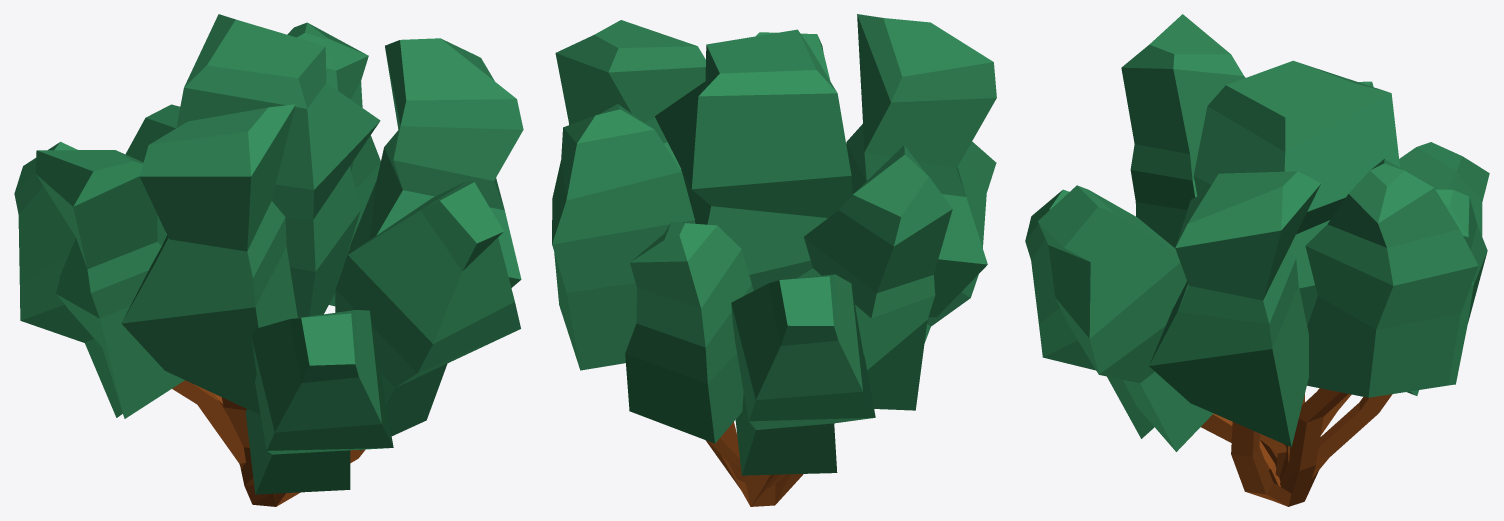
File: bush-1.glb
The picture shows the model from 3 angles, left to right: view 1: azimuth 30°, elevation 25°; view 2: azimuth 150°, elevation 25°; view 3: azimuth 270°, elevation 25°; orthographic projection. The views are drawn at different scales.
Visible parts, largest first — view 1: bush-1; view 2: bush-1; view 3: bush-1.
Boxes of the visible parts, x1,y1,x2,y2 form: bush-1: (14,14,523,506); bush-1: (552,14,996,506); bush-1: (1025,14,1489,506).
Bounding box in the file's own units: 1.55 × 1.67 × 1.67.
